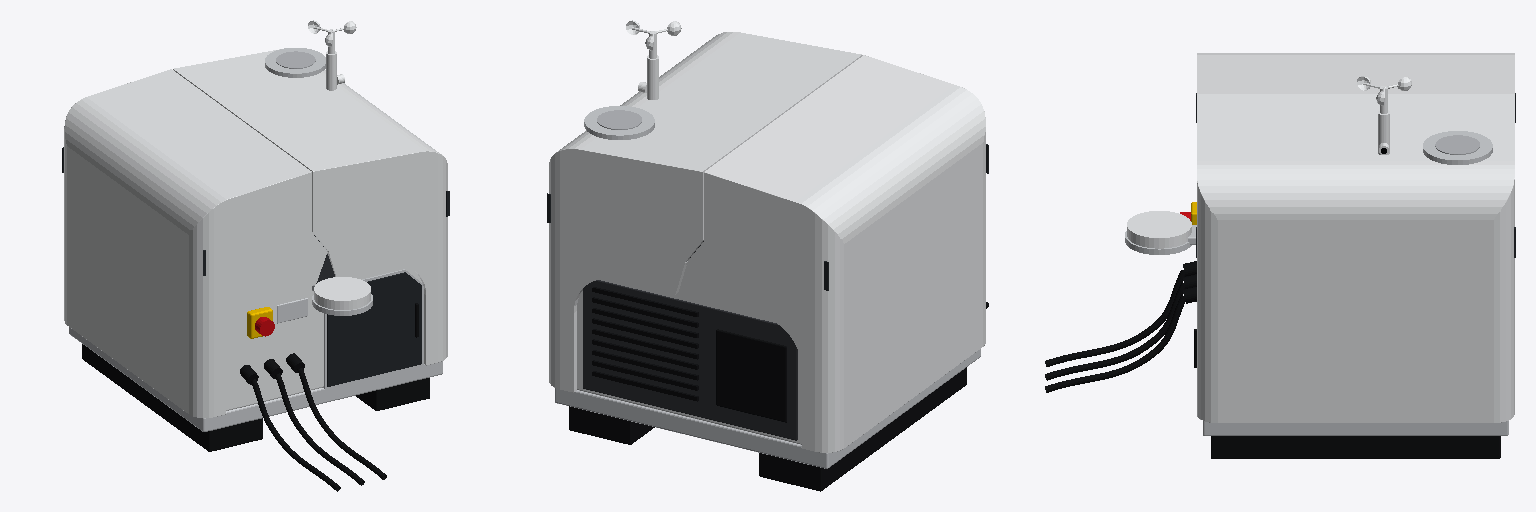
robot.urdf — dock3:
<?xml version='1.0' encoding='utf-8'?>
<!--
The MIT License (MIT)
Copyright © 2026 Swarm

Permission is hereby granted, free of charge, to any person obtaining a copy of this software and associated
documentation files (the “Software”), to deal in the Software without restriction, including without limitation
the rights to use, copy, modify, merge, publish, distribute, sublicense, and/or sell copies of the Software,
and to permit persons to whom the Software is furnished to do so, subject to the following conditions:

The above copyright notice and this permission notice shall be included in all copies or substantial portions of
the Software.

THE SOFTWARE IS PROVIDED “AS IS”, WITHOUT WARRANTY OF ANY KIND, EXPRESS OR IMPLIED, INCLUDING BUT NOT LIMITED TO
THE WARRANTIES OF MERCHANTABILITY, FITNESS FOR A PARTICULAR PURPOSE AND NONINFRINGEMENT. IN NO EVENT SHALL
THE AUTHORS OR COPYRIGHT HOLDERS BE LIABLE FOR ANY CLAIM, DAMAGES OR OTHER LIABILITY, WHETHER IN AN ACTION
OF CONTRACT, TORT OR OTHERWISE, ARISING FROM, OUT OF OR IN CONNECTION WITH THE SOFTWARE OR THE USE OR OTHER
DEALINGS IN THE SOFTWARE.
-->
<robot name="dock3">
  <link name="base_link">
    <inertial>
      <origin rpy="0 0 0" xyz="0 0 0" />
      <mass value="0" />
      <inertia ixx="0" ixy="0" ixz="0" iyy="0" iyz="0" izz="0" />
    </inertial>
    <visual name="body_black">
      <origin rpy="0 0 0" xyz="0 0 0" />
      <geometry>
        <mesh filename="./dock3/body_black.obj" scale="1 1 1" />
      </geometry>
      <material name="dock3_dock_black">
        <color rgba="0.0941 0.098 0.1059 1" />
      </material>
    </visual>
    <visual name="body_charcoal">
      <origin rpy="0 0 0" xyz="0 0 0" />
      <geometry>
        <mesh filename="./dock3/body_charcoal.obj" scale="1 1 1" />
      </geometry>
      <material name="dock3_dock_charcoal">
        <color rgba="0.2314 0.2392 0.2549 1" />
      </material>
    </visual>
    <visual name="body_red">
      <origin rpy="0 0 0" xyz="0 0 0" />
      <geometry>
        <mesh filename="./dock3/body_red.obj" scale="1 1 1" />
      </geometry>
      <material name="dock3_dock_red">
        <color rgba="0.7843 0.0784 0.1059 1" />
      </material>
    </visual>
    <visual name="body_skirt">
      <origin rpy="0 0 0" xyz="0 0 0" />
      <geometry>
        <mesh filename="./dock3/body_skirt.obj" scale="1 1 1" />
      </geometry>
      <material name="dock3_dock_skirt">
        <color rgba="0.8118 0.8235 0.8392 1" />
      </material>
    </visual>
    <visual name="body_smoked">
      <origin rpy="0 0 0" xyz="0 0 0" />
      <geometry>
        <mesh filename="./dock3/body_smoked.obj" scale="1 1 1" />
      </geometry>
      <material name="dock3_dock_smoked">
        <color rgba="0.1686 0.1843 0.2 1" />
      </material>
    </visual>
    <visual name="body_white">
      <origin rpy="0 0 0" xyz="0 0 0" />
      <geometry>
        <mesh filename="./dock3/body_white.obj" scale="1 1 1" />
      </geometry>
      <material name="dock3_dock_white">
        <color rgba="0.9255 0.9333 0.9412 1" />
      </material>
    </visual>
    <visual name="body_yellow">
      <origin rpy="0 0 0" xyz="0 0 0" />
      <geometry>
        <mesh filename="./dock3/body_yellow.obj" scale="1 1 1" />
      </geometry>
      <material name="dock3_dock_yellow">
        <color rgba="0.949 0.7608 0 1" />
      </material>
    </visual>
    <collision>
      <origin rpy="0 0 0" xyz="0 0 0.15" />
      <geometry>
        <box size="0.558 0.585 0.3" />
      </geometry>
    </collision>
    <collision>
      <origin rpy="0 0 0" xyz="0 0 0.077" />
      <geometry>
        <box size="0.6 0.585 0.038" />
      </geometry>
    </collision>
    <collision>
      <origin rpy="0 0 0" xyz="0 -0.267 0.3905" />
      <geometry>
        <box size="0.558 0.051 0.181" />
      </geometry>
    </collision>
    <collision>
      <origin rpy="0 0 0" xyz="0 0.267 0.3905" />
      <geometry>
        <box size="0.558 0.051 0.181" />
      </geometry>
    </collision>
    <collision>
      <origin rpy="0 0 0" xyz="-0.27775 0 0.3905" />
      <geometry>
        <box size="0.0025 0.483 0.181" />
      </geometry>
    </collision>
    <collision>
      <origin rpy="0 0 0" xyz="0.27775 0 0.3905" />
      <geometry>
        <box size="0.0025 0.483 0.181" />
      </geometry>
    </collision>
    <collision>
      <origin rpy="0 0 0" xyz="0 -0.36675 0.349" />
      <geometry>
        <box size="0.132 0.1485 0.034" />
      </geometry>
    </collision>
  </link>
  <link name="lid_left">
    <inertial>
      <origin rpy="0 0 0" xyz="0 0 0" />
      <mass value="0" />
      <inertia ixx="0" ixy="0" ixz="0" iyy="0" iyz="0" izz="0" />
    </inertial>
    <visual name="lid_left_black">
      <origin rpy="0 0 0" xyz="0 0 0" />
      <geometry>
        <mesh filename="./dock3/lid_left_black.obj" scale="1 1 1" />
      </geometry>
      <material name="dock3_dock_black">
        <color rgba="0.0941 0.098 0.1059 1" />
      </material>
    </visual>
    <visual name="lid_left_charcoal">
      <origin rpy="0 0 0" xyz="0 0 0" />
      <geometry>
        <mesh filename="./dock3/lid_left_charcoal.obj" scale="1 1 1" />
      </geometry>
      <material name="dock3_dock_charcoal">
        <color rgba="0.2314 0.2392 0.2549 1" />
      </material>
    </visual>
    <visual name="lid_left_marker">
      <origin rpy="0 0 0" xyz="0 0 0" />
      <geometry>
        <mesh filename="./dock3/lid_left_marker.obj" scale="1 1 1" />
      </geometry>
      <material name="dock3_dock_marker">
        <color rgba="0.9569 0.9569 0.949 1" />
      </material>
    </visual>
    <visual name="lid_left_metal">
      <origin rpy="0 0 0" xyz="0 0 0" />
      <geometry>
        <mesh filename="./dock3/lid_left_metal.obj" scale="1 1 1" />
      </geometry>
      <material name="dock3_dock_metal">
        <color rgba="0.7216 0.7333 0.749 1" />
      </material>
    </visual>
    <visual name="lid_left_smoked">
      <origin rpy="0 0 0" xyz="0 0 0" />
      <geometry>
        <mesh filename="./dock3/lid_left_smoked.obj" scale="1 1 1" />
      </geometry>
      <material name="dock3_dock_smoked">
        <color rgba="0.1686 0.1843 0.2 1" />
      </material>
    </visual>
    <visual name="lid_left_white">
      <origin rpy="0 0 0" xyz="0 0 0" />
      <geometry>
        <mesh filename="./dock3/lid_left_white.obj" scale="1 1 1" />
      </geometry>
      <material name="dock3_dock_white">
        <color rgba="0.9255 0.9333 0.9412 1" />
      </material>
    </visual>
    <collision>
      <origin rpy="0 0 0" xyz="0.1395 0 0.48" />
      <geometry>
        <box size="0.286 0.608 0.022" />
      </geometry>
    </collision>
    <collision>
      <origin rpy="0 0 0" xyz="0.0075 0 0.2265" />
      <geometry>
        <box size="0.022 0.608 0.529" />
      </geometry>
    </collision>
    <collision>
      <origin rpy="0 0 0" xyz="0.0315 -0.293 0.2265" />
      <geometry>
        <box size="0.07 0.022 0.529" />
      </geometry>
    </collision>
    <collision>
      <origin rpy="0 0 0" xyz="0.1745 -0.293 0.355" />
      <geometry>
        <box size="0.216 0.022 0.272" />
      </geometry>
    </collision>
    <collision>
      <origin rpy="0 0 0" xyz="0.0315 0.293 0.2265" />
      <geometry>
        <box size="0.07 0.022 0.529" />
      </geometry>
    </collision>
    <collision>
      <origin rpy="0 0 0" xyz="0.1745 0.293 0.355" />
      <geometry>
        <box size="0.216 0.022 0.272" />
      </geometry>
    </collision>
  </link>
  <joint name="lid_left_hinge" type="revolute">
    <parent link="base_link" />
    <child link="lid_left" />
    <origin rpy="0 0 0" xyz="-0.3165 0 0.134" />
    <axis xyz="0 -1 0" />
    <limit effort="0" lower="0" upper="1.5708" velocity="1" />
  </joint>
  <link name="lid_right">
    <inertial>
      <origin rpy="0 0 0" xyz="0 0 0" />
      <mass value="0" />
      <inertia ixx="0" ixy="0" ixz="0" iyy="0" iyz="0" izz="0" />
    </inertial>
    <visual name="lid_right_black">
      <origin rpy="0 0 0" xyz="0 0 0" />
      <geometry>
        <mesh filename="./dock3/lid_right_black.obj" scale="1 1 1" />
      </geometry>
      <material name="dock3_dock_black">
        <color rgba="0.0941 0.098 0.1059 1" />
      </material>
    </visual>
    <visual name="lid_right_charcoal">
      <origin rpy="0 0 0" xyz="0 0 0" />
      <geometry>
        <mesh filename="./dock3/lid_right_charcoal.obj" scale="1 1 1" />
      </geometry>
      <material name="dock3_dock_charcoal">
        <color rgba="0.2314 0.2392 0.2549 1" />
      </material>
    </visual>
    <visual name="lid_right_lens">
      <origin rpy="0 0 0" xyz="0 0 0" />
      <geometry>
        <mesh filename="./dock3/lid_right_lens.obj" scale="1 1 1" />
      </geometry>
      <material name="dock3_dock_lens">
        <color rgba="0.0431 0.0471 0.0549 1" />
      </material>
    </visual>
    <visual name="lid_right_marker">
      <origin rpy="0 0 0" xyz="0 0 0" />
      <geometry>
        <mesh filename="./dock3/lid_right_marker.obj" scale="1 1 1" />
      </geometry>
      <material name="dock3_dock_marker">
        <color rgba="0.9569 0.9569 0.949 1" />
      </material>
    </visual>
    <visual name="lid_right_metal">
      <origin rpy="0 0 0" xyz="0 0 0" />
      <geometry>
        <mesh filename="./dock3/lid_right_metal.obj" scale="1 1 1" />
      </geometry>
      <material name="dock3_dock_metal">
        <color rgba="0.7216 0.7333 0.749 1" />
      </material>
    </visual>
    <visual name="lid_right_skirt">
      <origin rpy="0 0 0" xyz="0 0 0" />
      <geometry>
        <mesh filename="./dock3/lid_right_skirt.obj" scale="1 1 1" />
      </geometry>
      <material name="dock3_dock_skirt">
        <color rgba="0.8118 0.8235 0.8392 1" />
      </material>
    </visual>
    <visual name="lid_right_smoked">
      <origin rpy="0 0 0" xyz="0 0 0" />
      <geometry>
        <mesh filename="./dock3/lid_right_smoked.obj" scale="1 1 1" />
      </geometry>
      <material name="dock3_dock_smoked">
        <color rgba="0.1686 0.1843 0.2 1" />
      </material>
    </visual>
    <visual name="lid_right_white">
      <origin rpy="0 0 0" xyz="0 0 0" />
      <geometry>
        <mesh filename="./dock3/lid_right_white.obj" scale="1 1 1" />
      </geometry>
      <material name="dock3_dock_white">
        <color rgba="0.9255 0.9333 0.9412 1" />
      </material>
    </visual>
    <collision>
      <origin rpy="0 0 0" xyz="-0.1735 0 0.48" />
      <geometry>
        <box size="0.354 0.608 0.022" />
      </geometry>
    </collision>
    <collision>
      <origin rpy="0 0 0" xyz="-0.0075 0 0.2265" />
      <geometry>
        <box size="0.022 0.608 0.529" />
      </geometry>
    </collision>
    <collision>
      <origin rpy="0 0 0" xyz="-0.0315 -0.293 0.2265" />
      <geometry>
        <box size="0.07 0.022 0.529" />
      </geometry>
    </collision>
    <collision>
      <origin rpy="0 0 0" xyz="-0.2085 -0.293 0.355" />
      <geometry>
        <box size="0.284 0.022 0.272" />
      </geometry>
    </collision>
    <collision>
      <origin rpy="0 0 0" xyz="-0.0315 0.293 0.2265" />
      <geometry>
        <box size="0.07 0.022 0.529" />
      </geometry>
    </collision>
    <collision>
      <origin rpy="0 0 0" xyz="-0.2085 0.293 0.355" />
      <geometry>
        <box size="0.284 0.022 0.272" />
      </geometry>
    </collision>
  </link>
  <joint name="lid_right_hinge" type="revolute">
    <parent link="base_link" />
    <child link="lid_right" />
    <origin rpy="0 0 0" xyz="0.3165 0 0.134" />
    <axis xyz="0 1 0" />
    <limit effort="0" lower="0" upper="1.5708" velocity="1" />
  </joint>
</robot>

--- Render facts (derived) ---
3 views of the same robot in one strip: view 1: azimuth 30°, elevation 25°; view 2: azimuth 150°, elevation 25°; view 3: azimuth 270°, elevation 25° (orthographic).
Model dock3 with 3 links and 2 joints (2 revolute), rooted at base_link, posed every joint at zero.
Visible links, largest first — view 1: lid_left, lid_right, base_link; view 2: lid_left, lid_right, base_link; view 3: lid_right, base_link, lid_left.
Link boxes in pixels (box(x1,y1,x2,y2)): lid_left: box(62, 69, 327, 417); lid_right: box(173, 20, 449, 365); base_link: box(69, 235, 442, 491); lid_left: box(686, 55, 988, 452); lid_right: box(547, 20, 862, 392); base_link: box(555, 241, 988, 491); lid_right: box(1196, 76, 1515, 422); base_link: box(1045, 202, 1508, 458); lid_left: box(1196, 53, 1515, 122).
Size in the robot's own frame: 0.64 by 0.8998 by 0.77 metres.
21 mesh visuals loaded from 21 distinct referenced files (21 OBJ).
